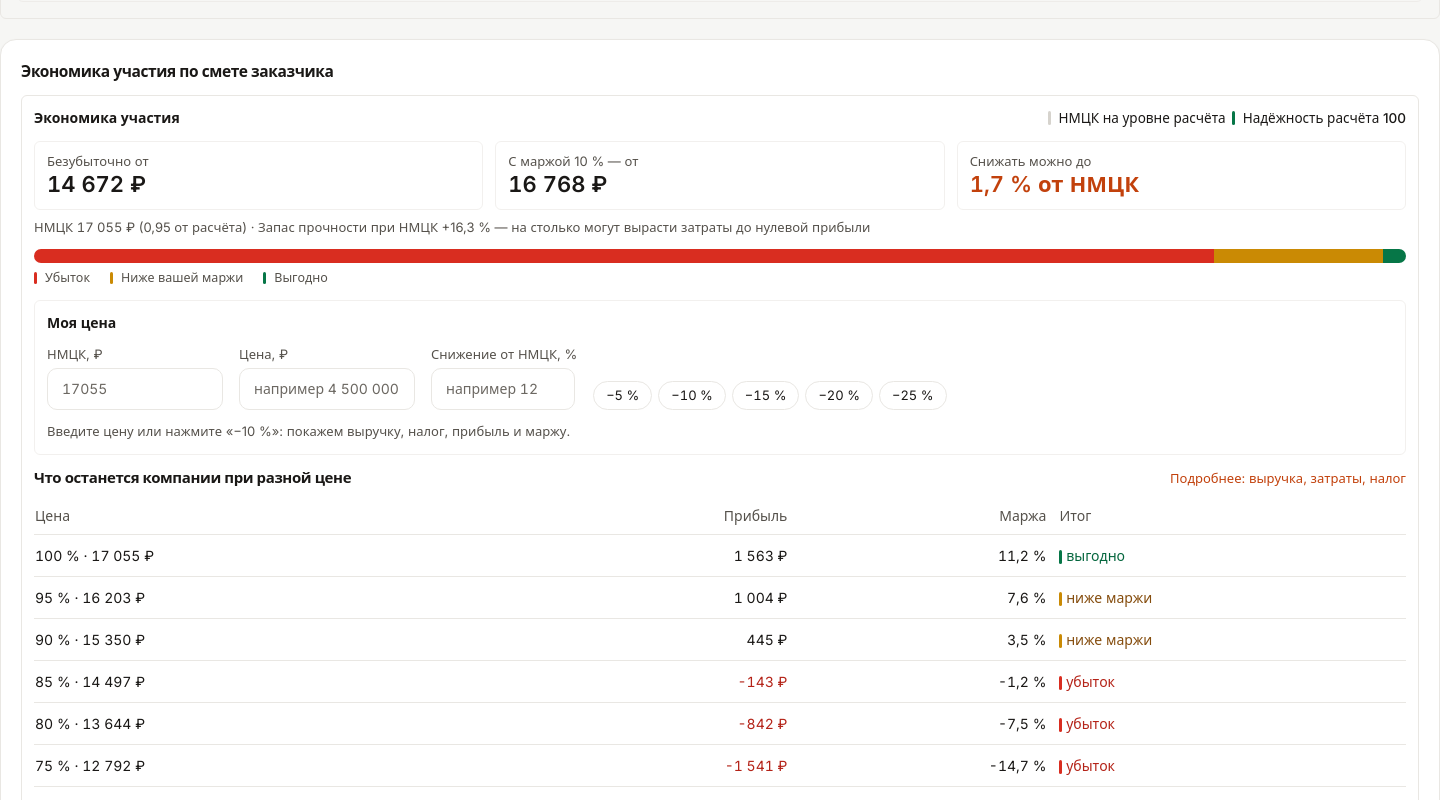
it: EstimateUploadView: результат проверки › в «Моей цене» кнопка −10 % пересчитывает деньги; НМЦК — итог сметы заказчика, её можно поправить
(page scrolled)
Click the button "−10 %" at (692, 396), box [658,381,726,410]
(page scrolled)
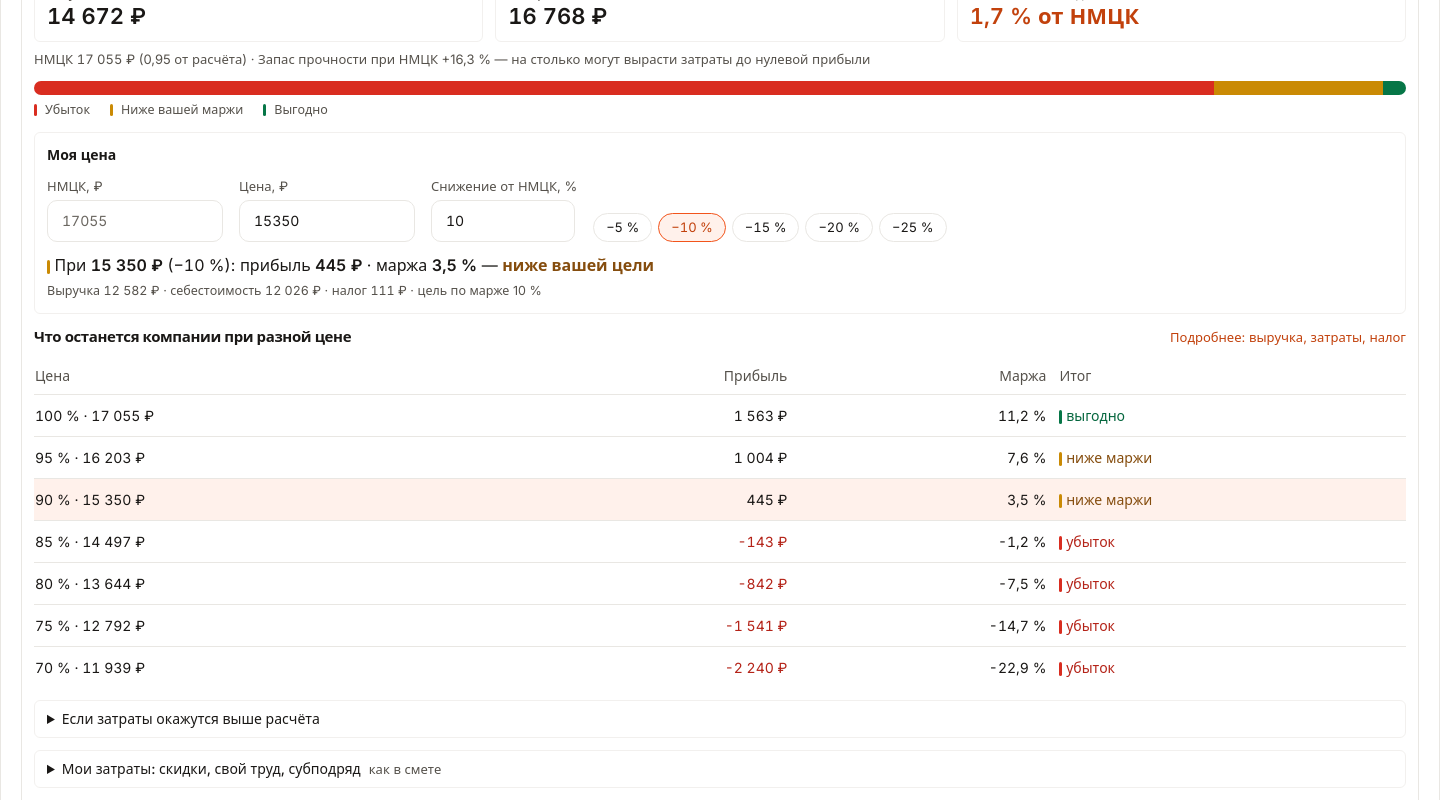
Expected: the field labelled "НМЦК, ₽" is shown, [47,200,223,242]
Expected: the element with test id "my-price-result" is shown, [47,255,654,298]
